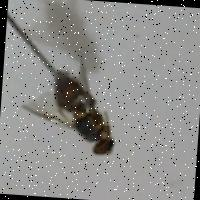Oriental-fruit-fly: (10, 44, 127, 164)
